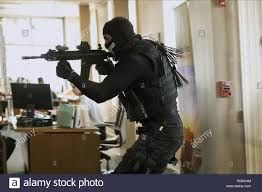gun: (20, 37, 119, 80)
uniform: (103, 45, 190, 167)
